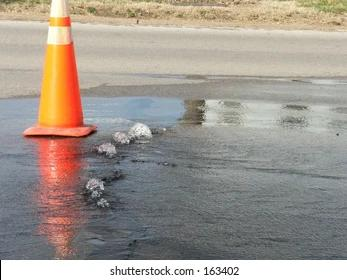water_leak: (60, 118, 200, 221)
